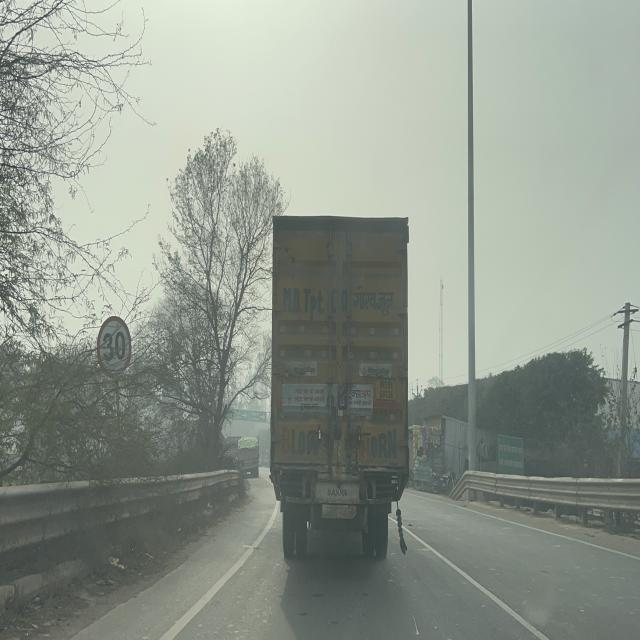SPEED_LIMIT_30: (97, 316, 132, 378)
